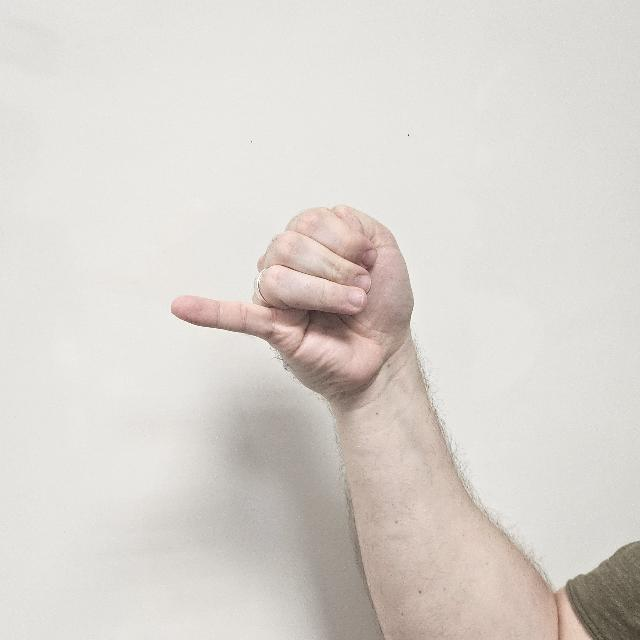Esquerda: (152, 180, 424, 392)
